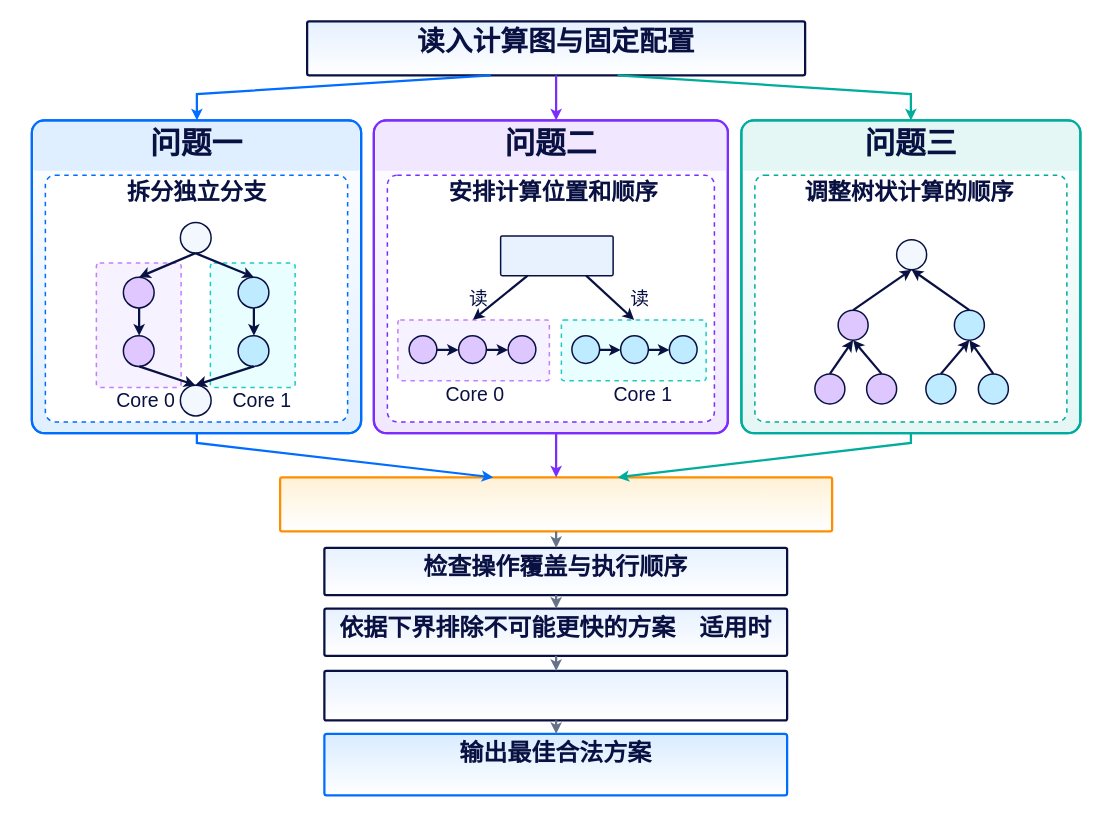
This 1112x840 diagram has some shape labels left out. Each missing label, with the box of its shape:
完整评价并比较完成时间: (323, 669, 788, 721)
数据: (500, 235, 614, 276)
生成完整的切分与调度方案: (279, 476, 833, 532)
